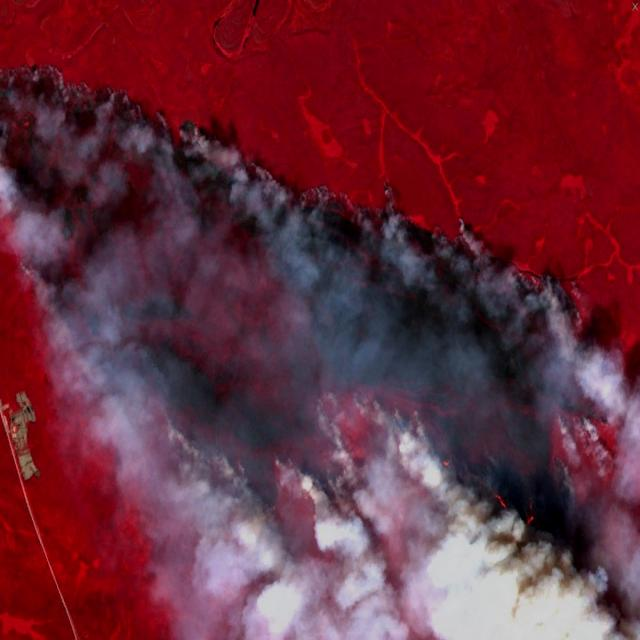fire: (0, 33, 640, 370), (437, 440, 553, 552), (551, 398, 612, 475), (317, 391, 421, 432), (274, 441, 318, 515), (156, 416, 185, 450)
